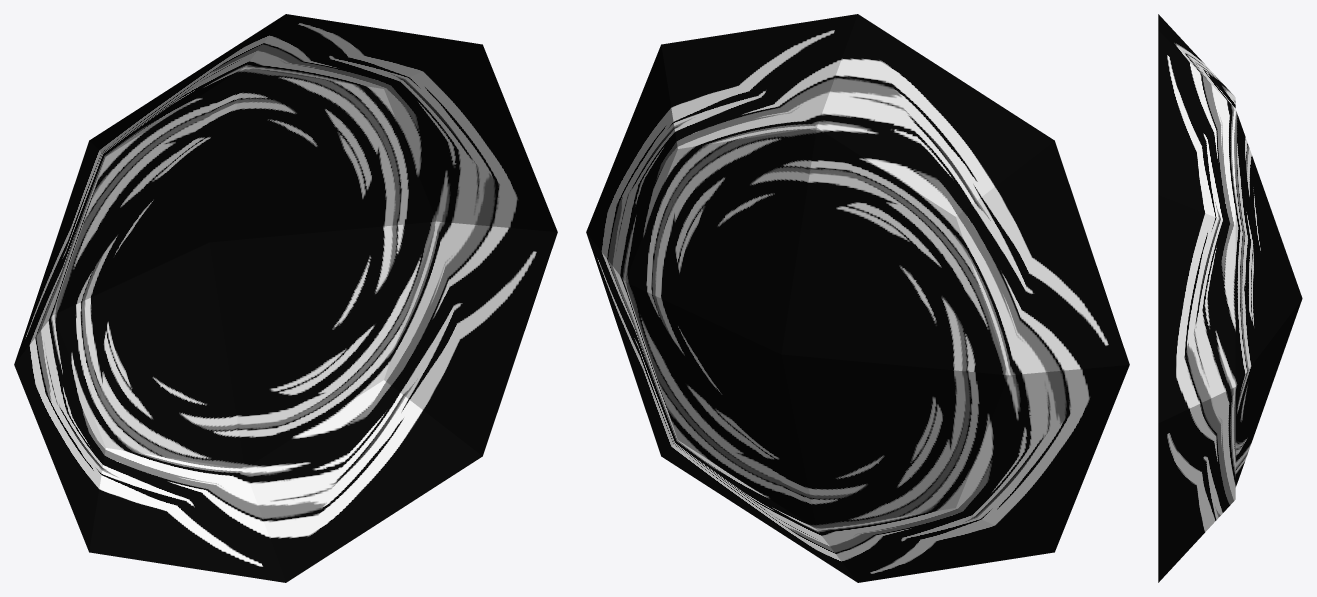
File: SM_VFX_Cap_BeamEnd.fbx
3 renders of one model, left to right at view 1: azimuth 30°, elevation 25°; view 2: azimuth 150°, elevation 25°; view 3: azimuth 270°, elevation 25°, orthographic. The views are drawn at different scales.
Visible parts, largest first — view 1: Plane; view 2: Plane; view 3: Plane.
Part boxes in pixels (x1,y1,x2,y2): Plane: (14, 14, 557, 582); Plane: (586, 14, 1129, 582); Plane: (1158, 14, 1302, 582).
Size of the model in its own units: 283 by 283 by 69.
